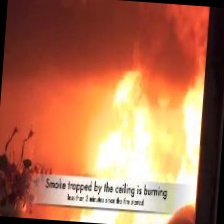fire: (105, 70, 207, 183)
smoke: (5, 0, 208, 90)
